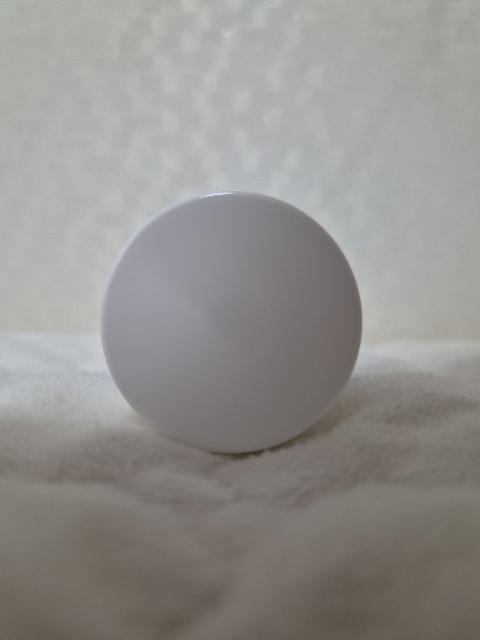handcream: (99, 191, 363, 452)
